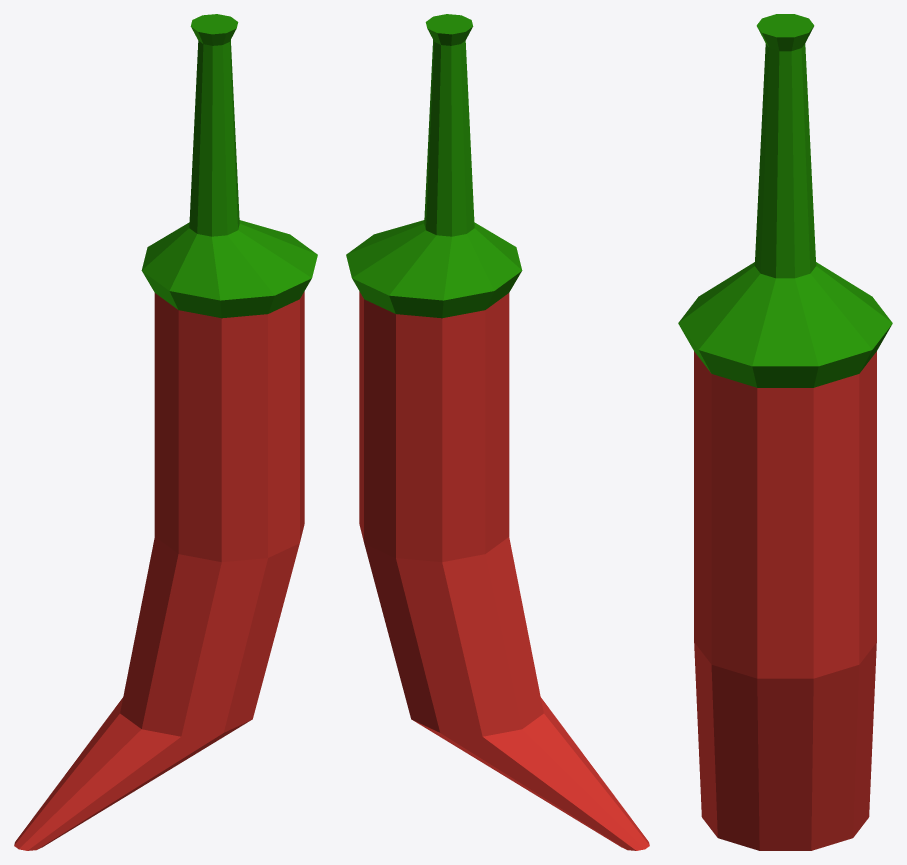
File: Redpepper.dae
The picture shows the model from 3 angles, left to right: view 1: azimuth 30°, elevation 25°; view 2: azimuth 150°, elevation 25°; view 3: azimuth 270°, elevation 25°; orthographic projection. The views are drawn at different scales.
Parts seen in each view (by area): view 1: Cylinder; view 2: Cylinder; view 3: Cylinder.
Boxes of the visible parts, box(x1,y1,x2,y2) form: Cylinder: box(14, 14, 317, 850); Cylinder: box(346, 14, 649, 850); Cylinder: box(678, 14, 892, 850).
Size of the model in its own units: 1.95 by 1.06 by 5.02.
